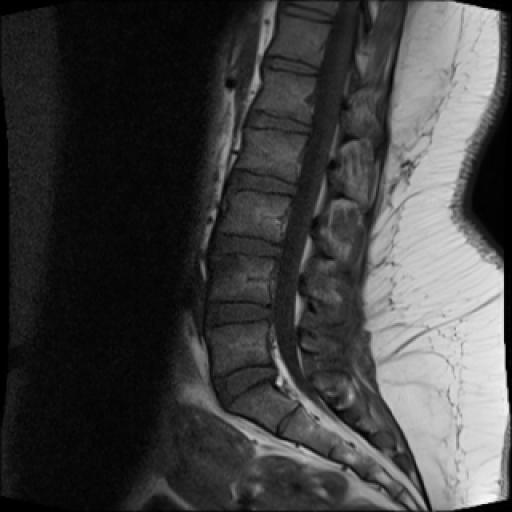L1: (253, 64, 316, 120)
L2: (235, 128, 306, 182)
L3: (218, 190, 290, 242)
L4: (210, 258, 274, 304)
L5: (207, 321, 272, 376)
S1: (230, 382, 298, 434)
